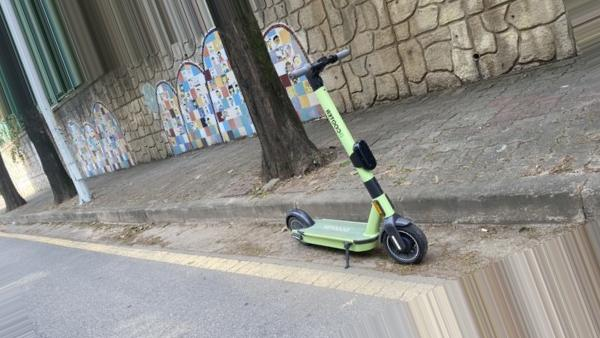scooter: (285, 46, 428, 265)
